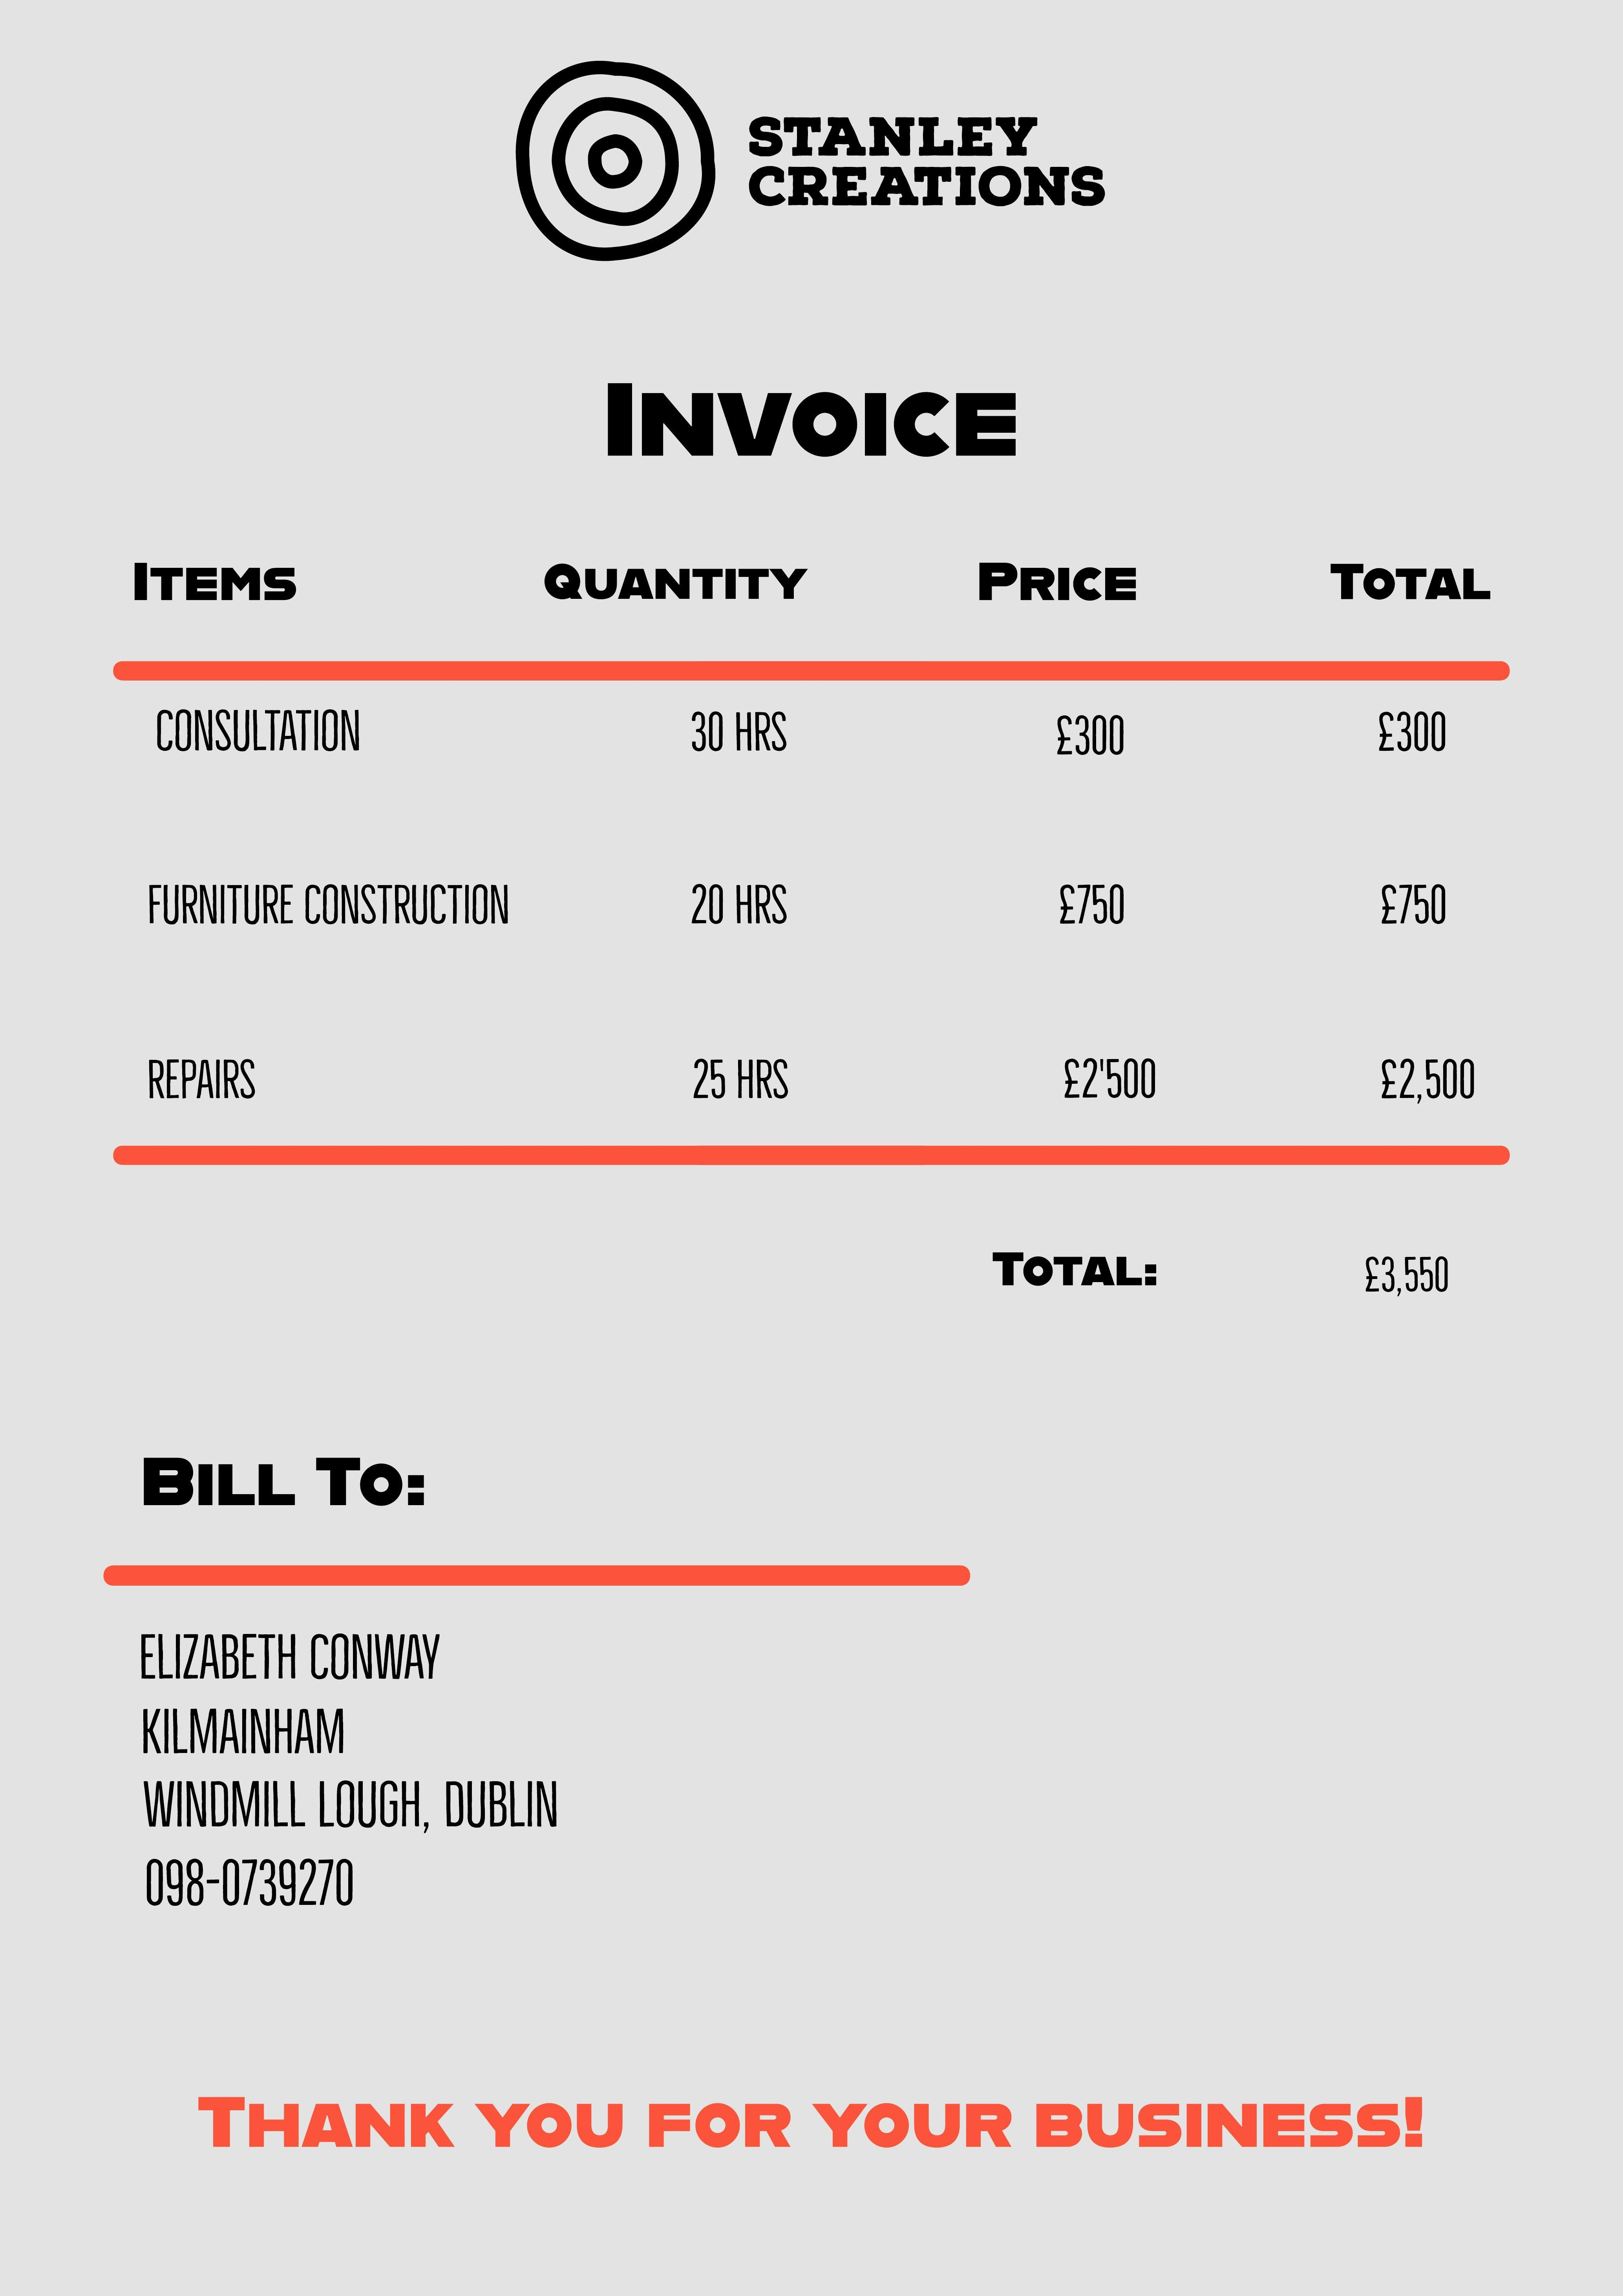ROI: (115, 550, 1535, 1147), (66, 1445, 595, 1923), (735, 102, 1124, 230), (992, 1237, 1485, 1308)
